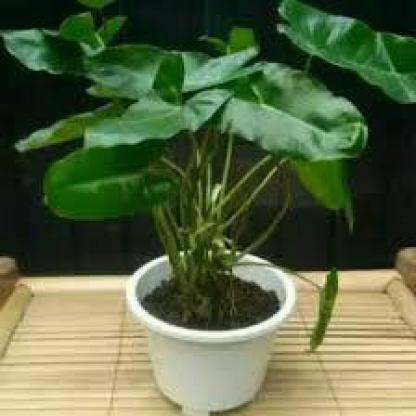Melati: (151, 167, 295, 310)
